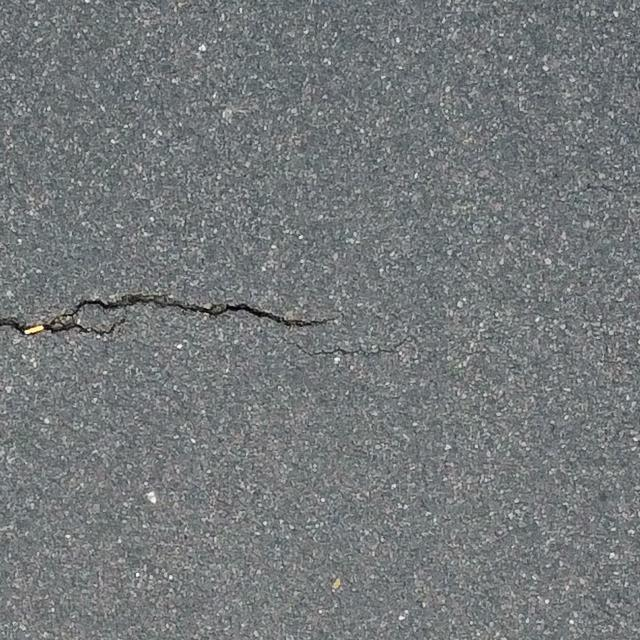TransverseCrack: (3, 290, 336, 335)
